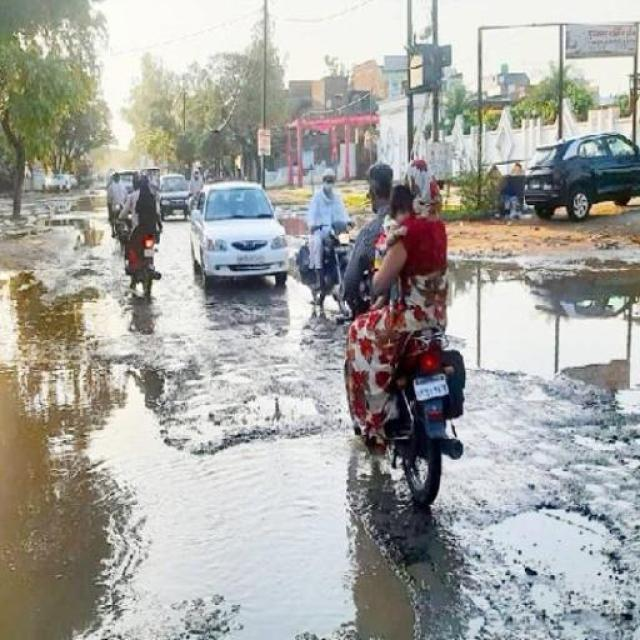puddle: (69, 438, 405, 638), (4, 279, 120, 640), (466, 268, 640, 388)
